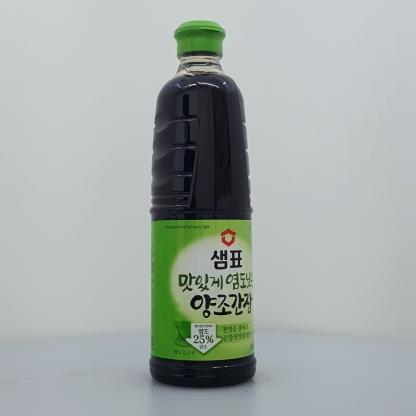-------------: (149, 20, 257, 387)
